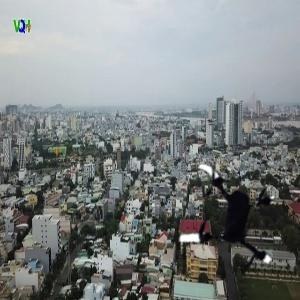drone: (163, 157, 288, 282)
